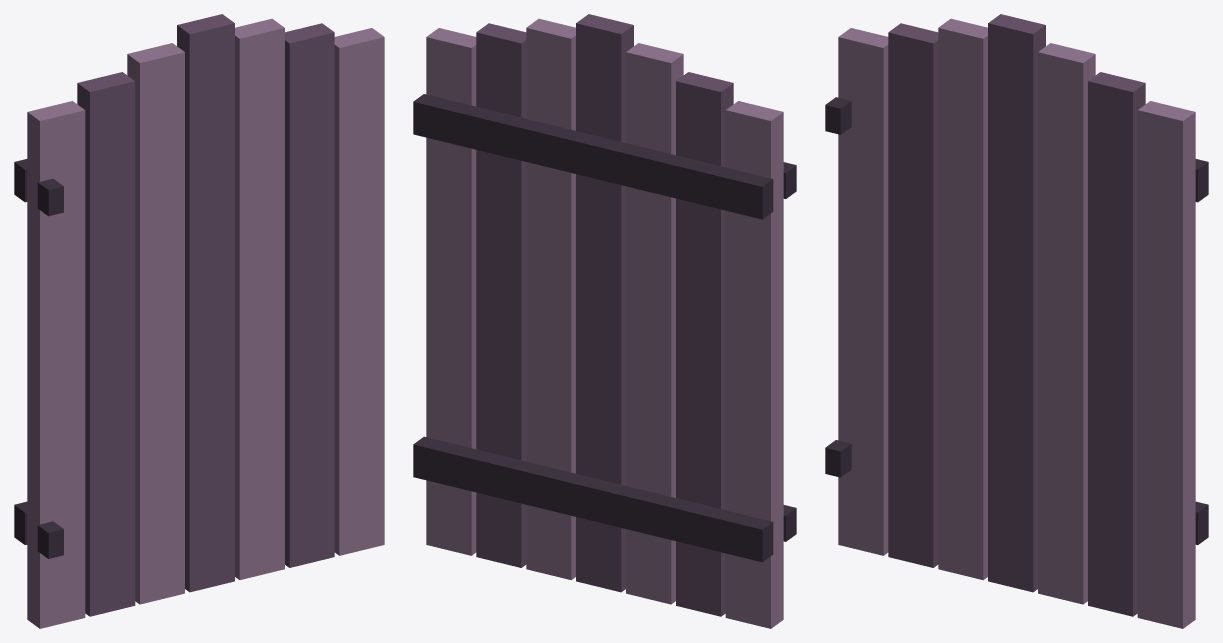
The model's file is TW_WOOD_GATE_LEAF_B_LOD0.glb.
3 renders of one model, left to right at view 1: azimuth 30°, elevation 25°; view 2: azimuth 150°, elevation 25°; view 3: azimuth 330°, elevation 25°, orthographic.
Parts seen in each view (by area): view 1: TW_WOOD_GATE_LEAF_B_LOD0; view 2: TW_WOOD_GATE_LEAF_B_LOD0; view 3: TW_WOOD_GATE_LEAF_B_LOD0.
Boxes of the visible parts, x1,y1,x2,y2 form: TW_WOOD_GATE_LEAF_B_LOD0: [14, 14, 384, 628]; TW_WOOD_GATE_LEAF_B_LOD0: [413, 14, 796, 628]; TW_WOOD_GATE_LEAF_B_LOD0: [825, 14, 1208, 628].
Bounding box in the file's own units: 1.12 × 1.71 × 0.19.
Materials: 1 (1 with a texture image).
